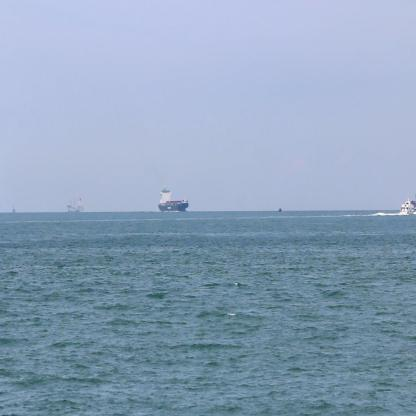Container Ship: (158, 181, 190, 215), (66, 192, 87, 214)
